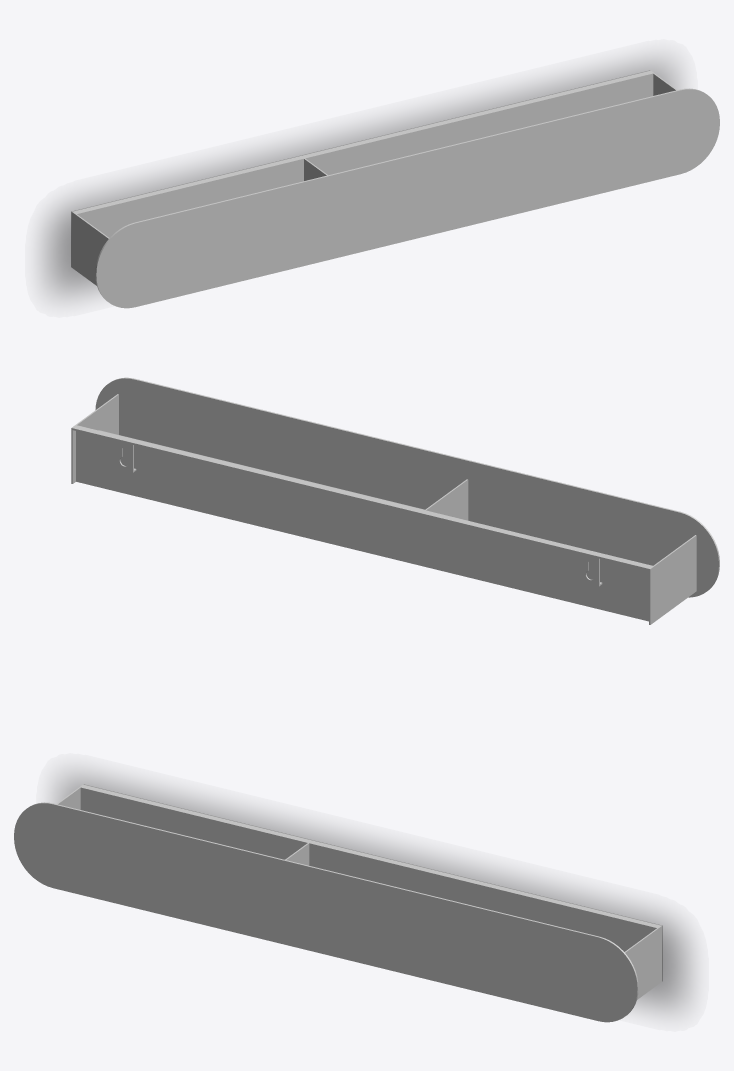
Rendered from round-double.c9882d1be1.ar.glb.
3 views of the same model, one above another, from view 1: azimuth 30°, elevation 25°; view 2: azimuth 150°, elevation 25°; view 3: azimuth 330°, elevation 25° (orthographic).
Visible parts, largest first — view 1: NAUO1, object 2; view 2: NAUO1; view 3: NAUO1, object 2.
Boxes of the visible parts, x1=… form: NAUO1: x1=71, y1=70, x2=719, y2=308; object 2: x1=42, y1=59, x2=679, y2=297; NAUO1: x1=71, y1=377, x2=719, y2=624; NAUO1: x1=14, y1=784, x2=662, y2=1022; object 2: x1=54, y1=773, x2=691, y2=1011.
Size of the model in its own units: 0.78 by 0.17 by 0.092.
2 materials, 1 textured.
